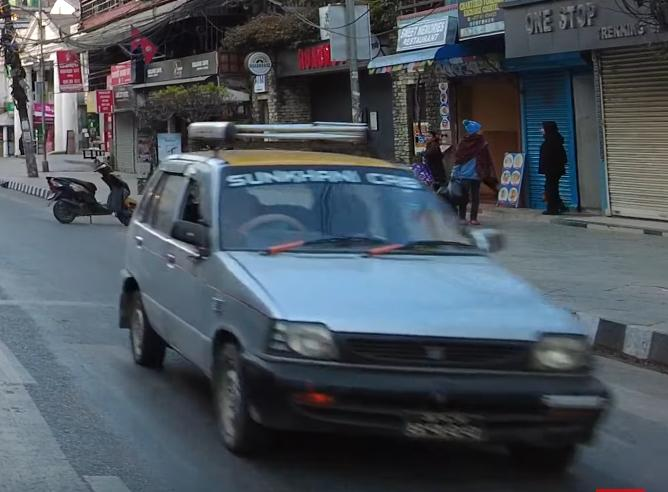scooter: (46, 154, 140, 229)
taxi: (113, 116, 623, 481)
